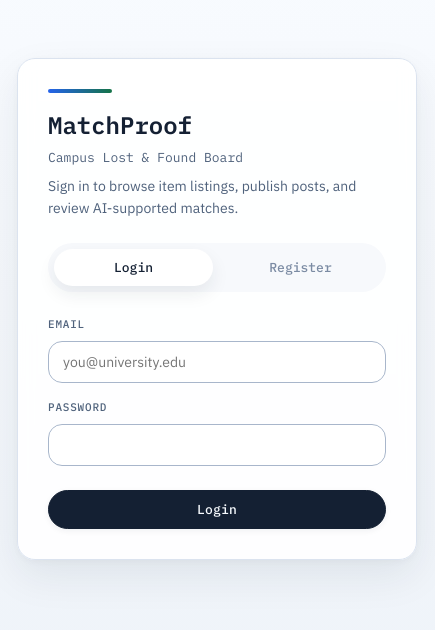
Test: AuthPage component › switches to register form when tab is clicked
The image size is (435, 630).
Click the button "Register" at (300,268), box [221, 249, 380, 286]
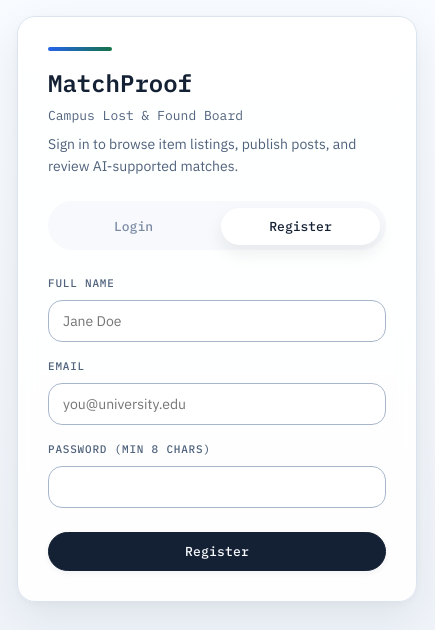
Expected: the field with placeholder "Jane Doe" is shown, [48, 300, 386, 342]
